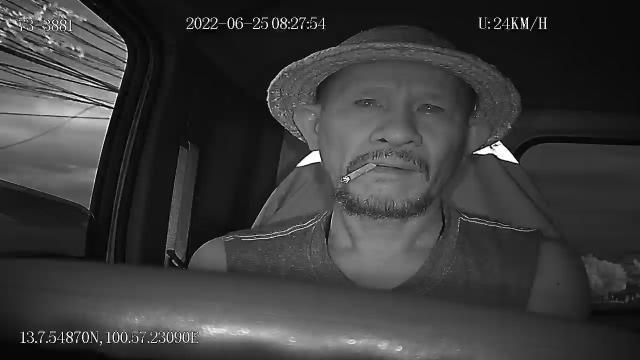SafeDriving: (408, 92, 451, 122), (348, 87, 388, 114)
Smoking: (342, 160, 376, 186)
